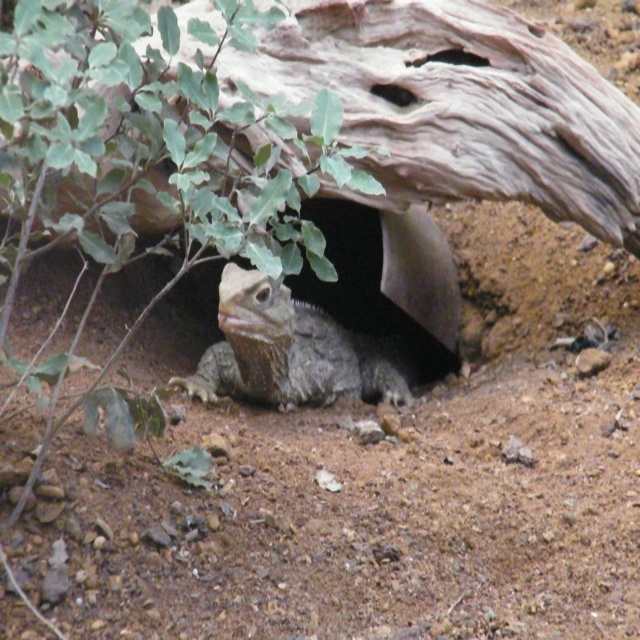Lizard: (196, 242, 462, 428)
